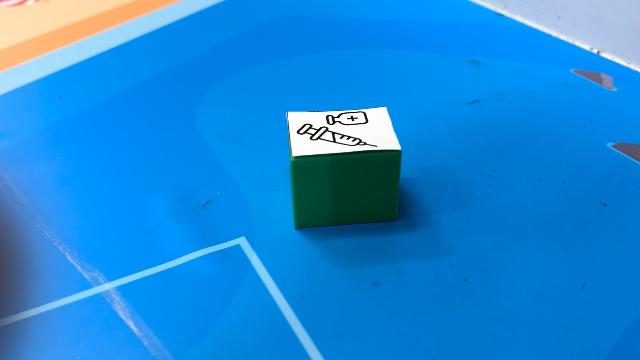syringe: (286, 106, 402, 228)
